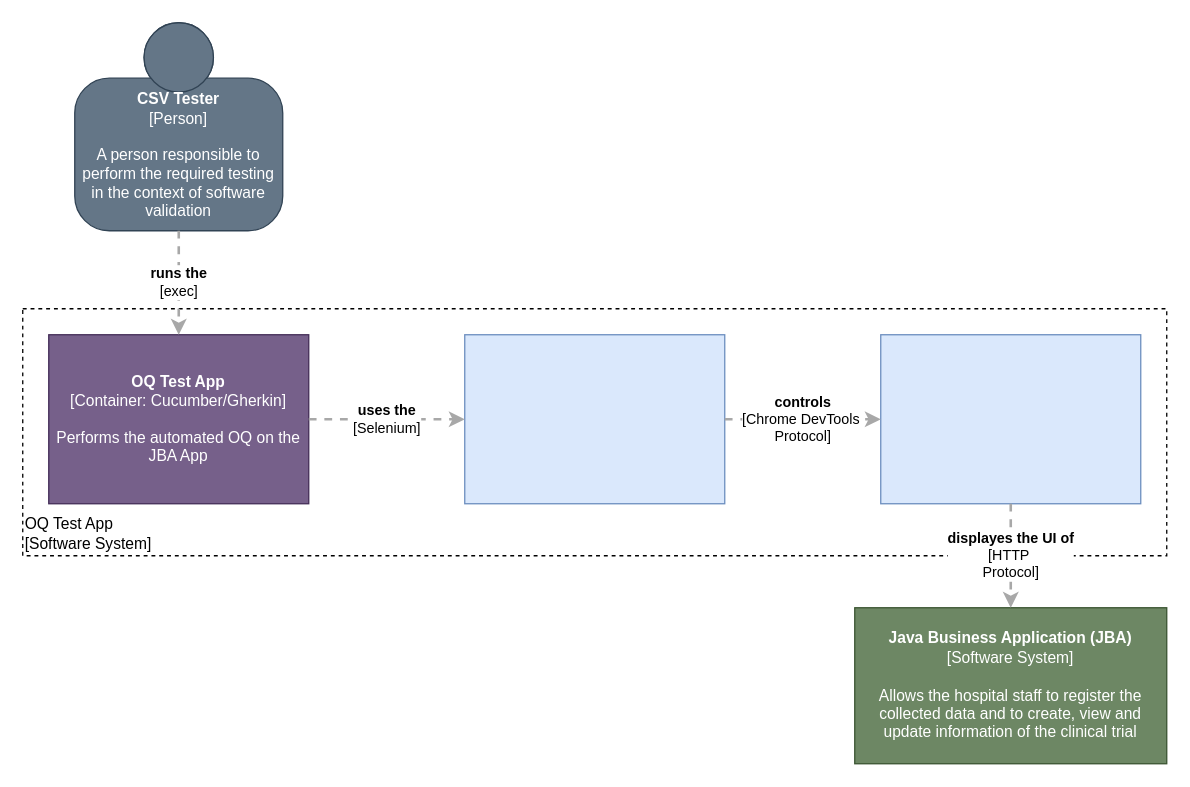
The diagram is 1190 pixels wide and 787 high, and some of its shapes have lost their labels. The box of each missing label's shape, as (x1, y1, x2, y2) in pixels:
Web Browser [Container: Chrome ] Displays the GUI of JBA: (879, 333, 1141, 504)
Web Driver [Container: ChromeDriver ] Allows to control the web browser: (463, 333, 725, 504)
